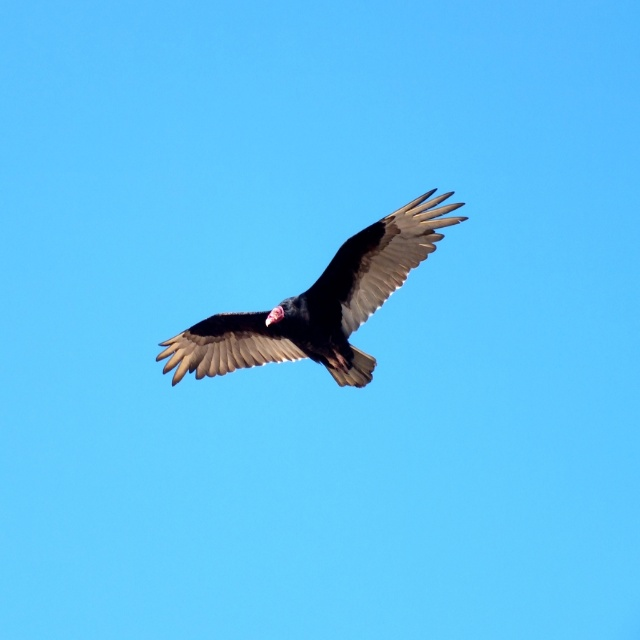Eagle: (150, 178, 467, 395)
